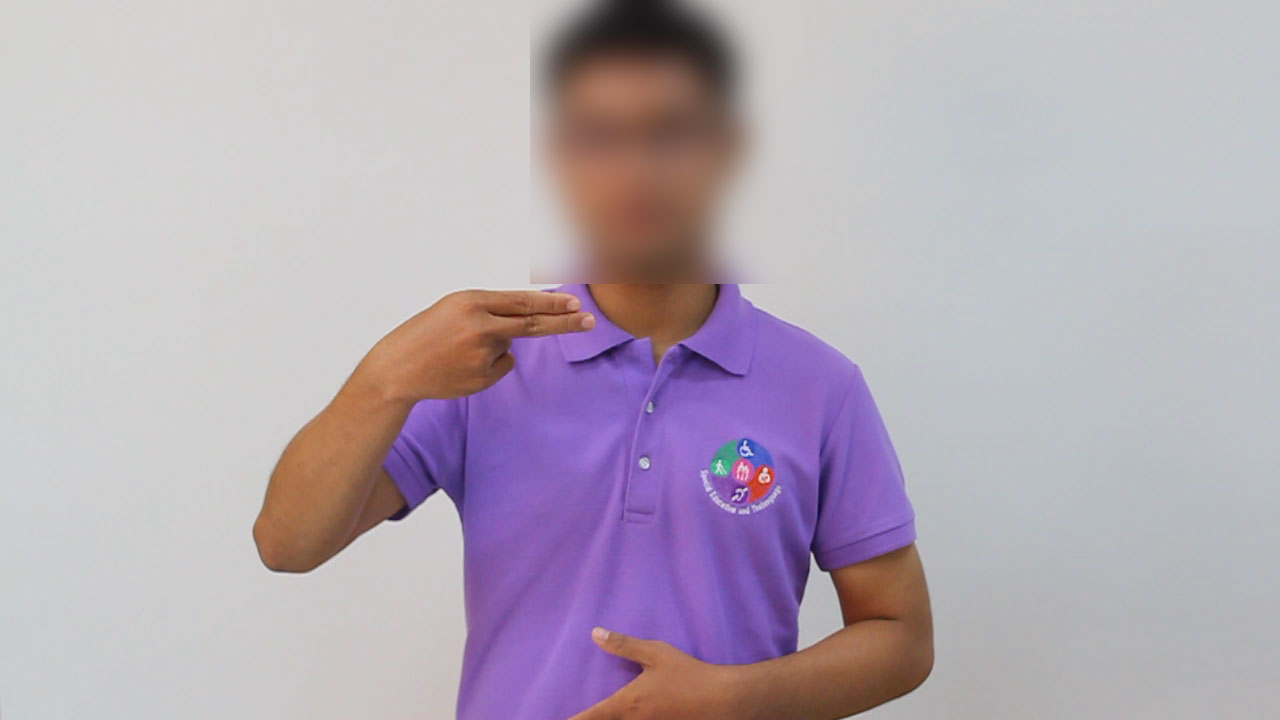hor: (353, 273, 602, 410)
